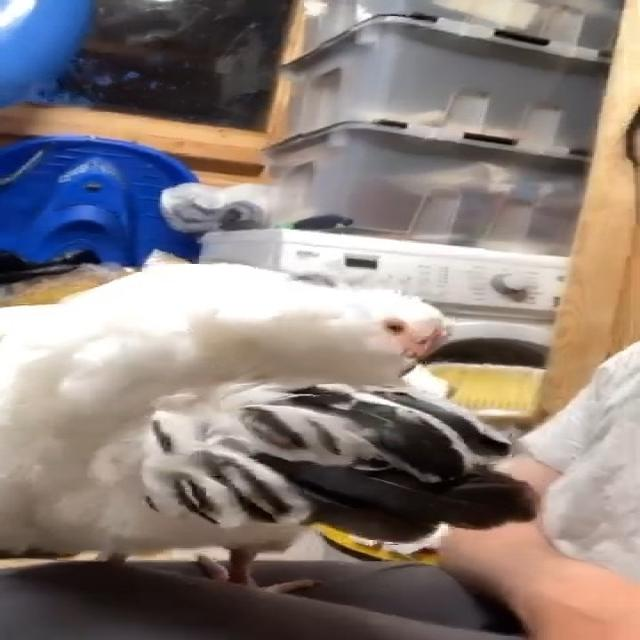self preening: (0, 232, 519, 596)
